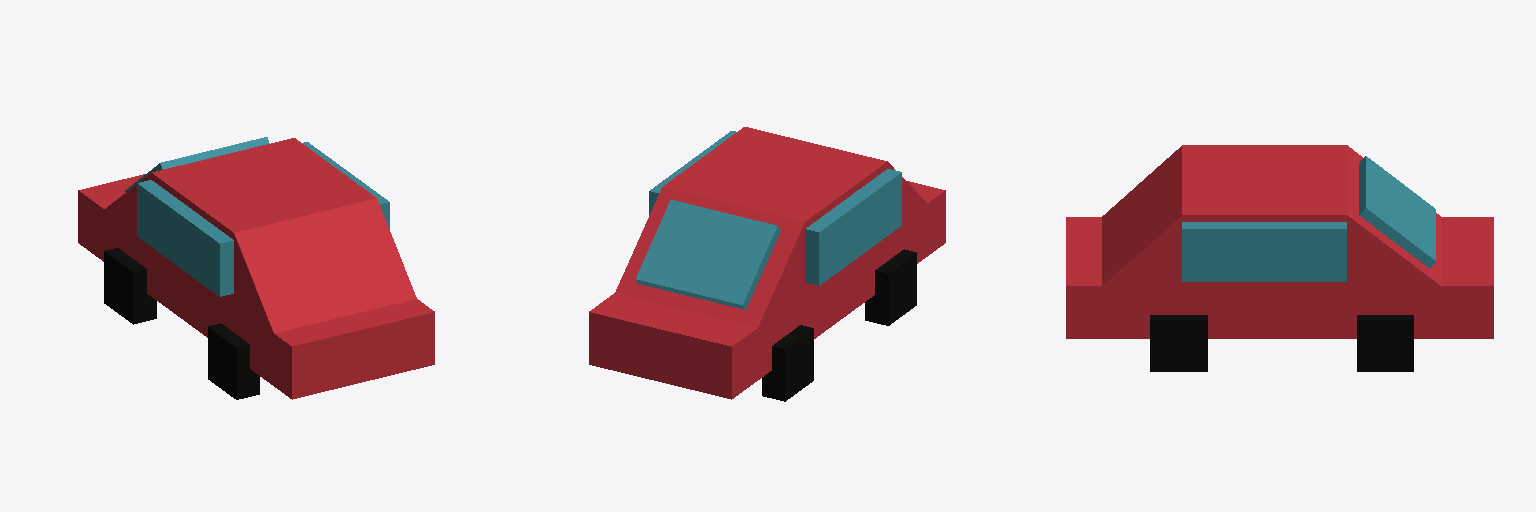
3 views of the same model, side by side, from view 1: azimuth 30°, elevation 25°; view 2: azimuth 150°, elevation 25°; view 3: azimuth 270°, elevation 25° (orthographic).
Parts seen in each view (by area): view 1: Cube.002; view 2: Cube.002; view 3: Cube.002.
Boxes of the visible parts, box(x1,y1,x2,y2) form: Cube.002: box(78, 137, 434, 399); Cube.002: box(589, 127, 945, 401); Cube.002: box(1066, 145, 1493, 371).
Bounding box in the file's own units: 2.38 × 2.03 × 5.18.
Materials: 3 (3 with a texture image).